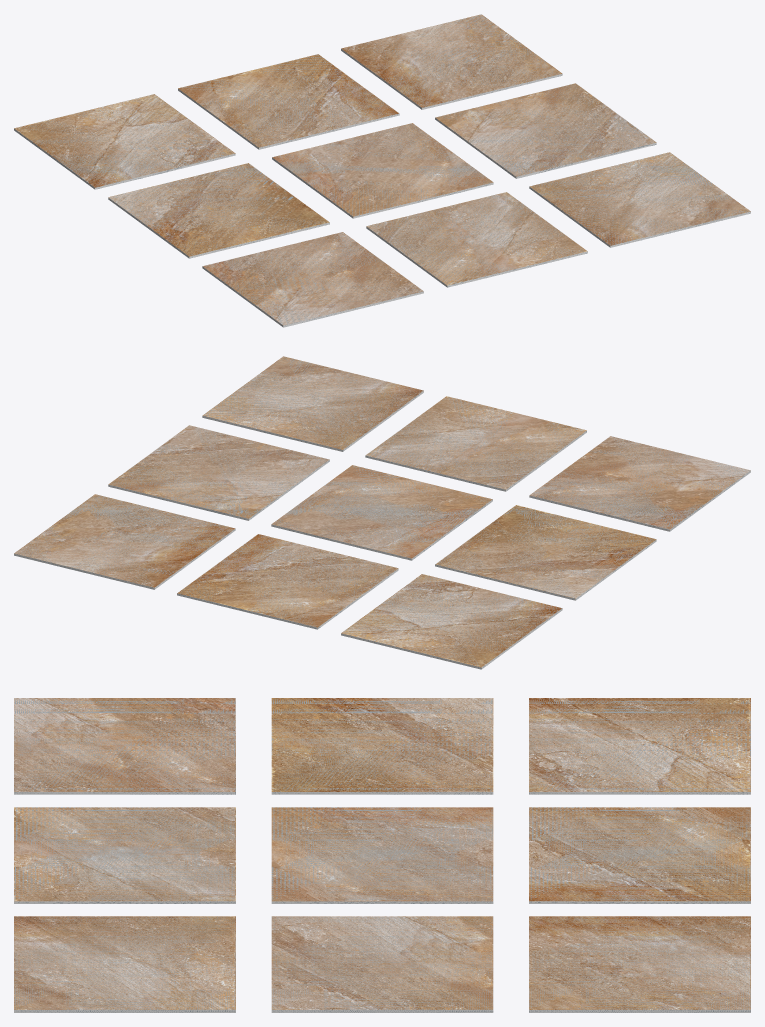
File: art18.dae
The picture shows the model from 3 angles, top to bottom: view 1: azimuth 30°, elevation 25°; view 2: azimuth 150°, elevation 25°; view 3: azimuth 270°, elevation 25°; orthographic projection. The views are drawn at different scales.
Parts seen in each view (by area): view 1: group_0 (×2), group_2 (×2), group_4 (×2), group_1 (×2), group_8 (×2), group_3 (×2), group_7 (×2), group_6 (×2), group_5 (×2); view 2: group_6 (×2), group_2 (×2), group_4 (×2), group_5 (×2), group_7 (×2), group_3 (×2), group_1 (×2), group_0 (×2), group_8 (×2); view 3: group_3 (×2), group_1 (×2), group_7 (×2), group_2 (×2), group_4 (×2), group_0 (×2), group_5 (×2), group_6 (×2), group_8 (×2).
Boxes of the visible parts, left/top/right/bottom form: group_0 (×2): left=14, top=94, right=235, bottom=189; group_2 (×2): left=108, top=163, right=329, bottom=258; group_4 (×2): left=435, top=83, right=656, bottom=178; group_1 (×2): left=178, top=54, right=399, bottom=149; group_8 (×2): left=529, top=152, right=750, bottom=247; group_3 (×2): left=272, top=123, right=493, bottom=218; group_7 (×2): left=366, top=192, right=587, bottom=287; group_6 (×2): left=202, top=232, right=423, bottom=327; group_5 (×2): left=341, top=14, right=562, bottom=109; group_6 (×2): left=529, top=436, right=750, bottom=531; group_2 (×2): left=435, top=505, right=656, bottom=600; group_4 (×2): left=108, top=425, right=329, bottom=520; group_5 (×2): left=14, top=494, right=235, bottom=589; group_7 (×2): left=365, top=396, right=586, bottom=491; group_3 (×2): left=271, top=465, right=492, bottom=560; group_1 (×2): left=177, top=534, right=398, bottom=629; group_0 (×2): left=341, top=574, right=562, bottom=669; group_8 (×2): left=202, top=356, right=423, bottom=451; group_3 (×2): left=271, top=807, right=493, bottom=903; group_1 (×2): left=529, top=807, right=750, bottom=903; group_7 (×2): left=14, top=807, right=235, bottom=903; group_2 (×2): left=271, top=698, right=493, bottom=794; group_4 (×2): left=271, top=916, right=493, bottom=1012; group_0 (×2): left=529, top=698, right=750, bottom=794; group_5 (×2): left=529, top=916, right=750, bottom=1012; group_6 (×2): left=14, top=698, right=235, bottom=794; group_8 (×2): left=14, top=916, right=235, bottom=1012.
Size of the model in its own units: 81.47 by 81.34 by 0.3465.
11 materials, 9 textured.
